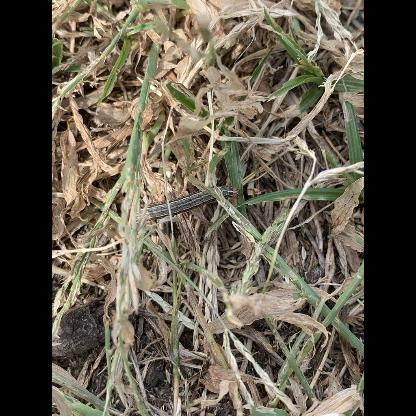Fall Armyworm Larvae: (134, 184, 242, 224)
